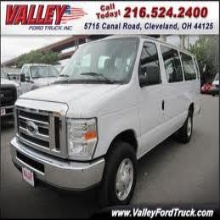no damage: (9, 35, 201, 205)
